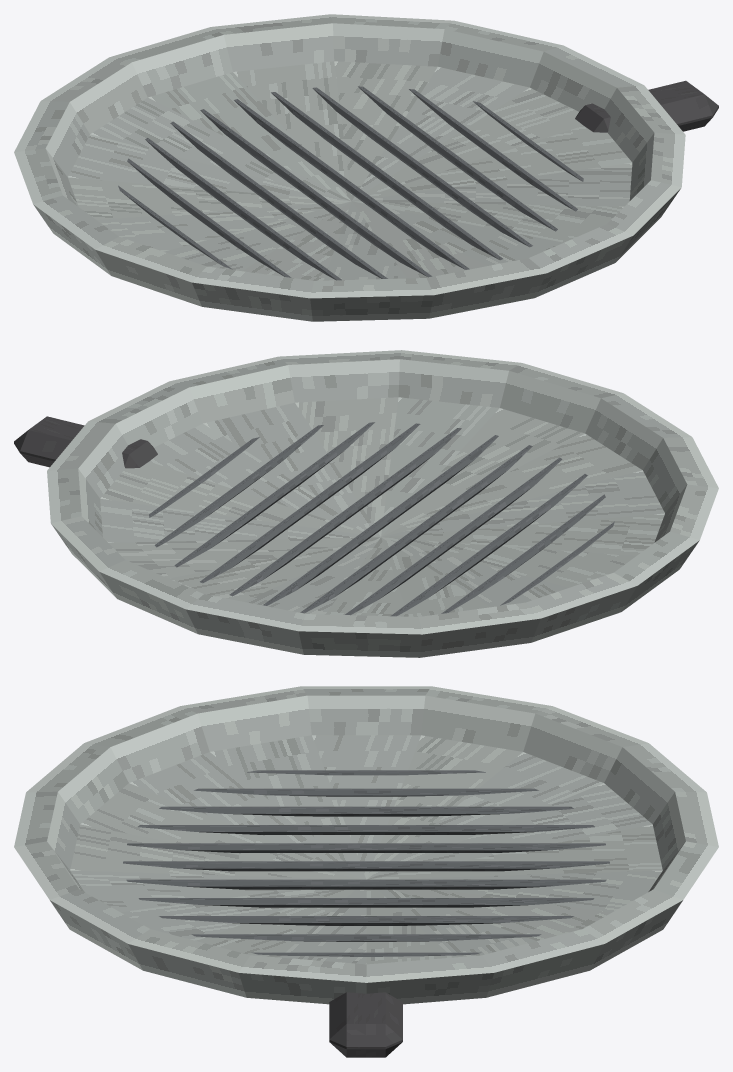
The model's file is splatter_guard.glb.
3 views of the same model, one above another, from view 1: azimuth 30°, elevation 25°; view 2: azimuth 150°, elevation 25°; view 3: azimuth 270°, elevation 25° (orthographic). The views are drawn at different scales.
Parts seen in each view (by area): view 1: block_shallow plate or screen, block_mesh filament (×11), block_guard handle; view 2: block_shallow plate or screen, block_mesh filament (×11), block_guard handle; view 3: block_shallow plate or screen, block_mesh filament (×11), block_guard handle.
Part boxes in pixels (x1,y1,x2,y2): block_shallow plate or screen: [14, 14, 685, 321]; block_mesh filament (×11): [118, 86, 583, 280]; block_guard handle: [575, 80, 718, 132]; block_shallow plate or screen: [47, 350, 718, 657]; block_mesh filament (×11): [149, 422, 614, 616]; block_guard handle: [14, 416, 157, 468]; block_shallow plate or screen: [14, 686, 718, 1004]; block_mesh filament (×11): [123, 770, 609, 956]; block_guard handle: [329, 992, 402, 1057].
Bounding box in the file's own units: 0.1508 × 0.0149 × 0.1362.
2 materials, 2 textured.
